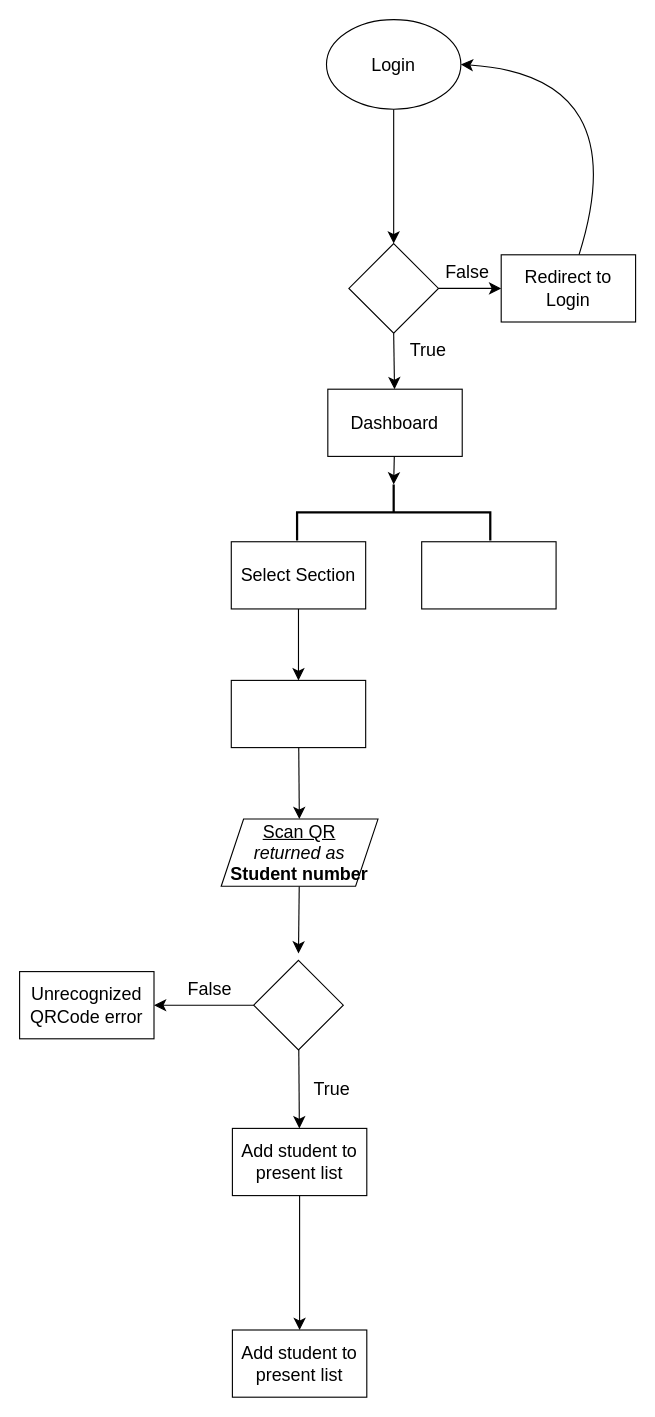
The diagram is 655 pixels wide and 1417 high, and some of its shapes have lost their labels. Here are the shapes that lost their labels. From the top down, the centre of each, then its label:
At point 393,287: "Admin Login?".
At point 488,575: "Add Student".
At point 298,713: "Fetch Students".
At point 298,1004: "Check if exist".
